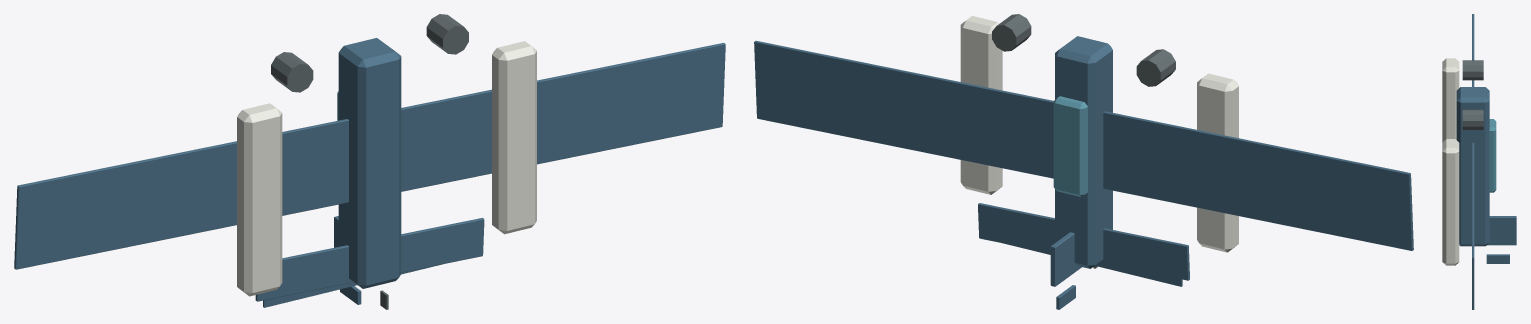
3 renders of one model, left to right at view 1: azimuth 30°, elevation 25°; view 2: azimuth 150°, elevation 25°; view 3: azimuth 270°, elevation 25°, orthographic. The views are drawn at different scales.
Visible parts, largest first — view 1: main_wing.039, fuselage.034, float_-4.6314, float_4.6314, horizontal_tail.039, engine_mount_0.039, engine_mount_1.004, elevator.039; view 2: main_wing.039, fuselage.034, horizontal_tail.039, float_-4.6314, aileron_L.039, aileron_R.039, float_4.6314, canopy.034, elevator.039, vertical_tail.039, engine_mount_0.039, engine_mount_1.004; view 3: fuselage.034, float_4.6314, float_-4.6314, vertical_tail.039, main_wing.039, canopy.034, engine_mount_0.039, engine_mount_1.004, rudder.039.
Boxes of the visible parts, x1=… form: main_wing.039: x1=14, y1=43, x2=725, y2=269; fuselage.034: x1=338, y1=38, x2=401, y2=288; float_-4.6314: x1=237, y1=103, x2=282, y2=296; float_4.6314: x1=492, y1=41, x2=536, y2=234; horizontal_tail.039: x1=255, y1=218, x2=484, y2=301; engine_mount_0.039: x1=271, y1=52, x2=313, y2=92; engine_mount_1.004: x1=426, y1=14, x2=468, y2=54; elevator.039: x1=263, y1=264, x2=440, y2=307; main_wing.039: x1=754, y1=40, x2=1413, y2=250; fuselage.034: x1=1055, y1=36, x2=1112, y2=268; horizontal_tail.039: x1=978, y1=203, x2=1189, y2=280; float_-4.6314: x1=1197, y1=73, x2=1238, y2=252; aileron_L.039: x1=1234, y1=178, x2=1404, y2=241; aileron_R.039: x1=761, y1=63, x2=931, y2=126; float_4.6314: x1=960, y1=16, x2=1002, y2=194; canopy.034: x1=1053, y1=96, x2=1087, y2=197; elevator.039: x1=985, y1=219, x2=1182, y2=286; vertical_tail.039: x1=1050, y1=232, x2=1081, y2=286; engine_mount_0.039: x1=1136, y1=49, x2=1175, y2=86; engine_mount_1.004: x1=992, y1=14, x2=1031, y2=51; fuselage.034: x1=1456, y1=87, x2=1489, y2=246; float_4.6314: x1=1442, y1=139, x2=1459, y2=265; float_-4.6314: x1=1442, y1=58, x2=1459, y2=142; vertical_tail.039: x1=1487, y1=216, x2=1516, y2=245; main_wing.039: x1=1472, y1=14, x2=1474, y2=309; canopy.034: x1=1489, y1=119, x2=1496, y2=192; engine_mount_0.039: x1=1462, y1=60, x2=1483, y2=80; engine_mount_1.004: x1=1462, y1=109, x2=1483, y2=129; rudder.039: x1=1486, y1=254, x2=1509, y2=263.
Size of the model in its own units: 25.82 by 9.5 by 3.6.
